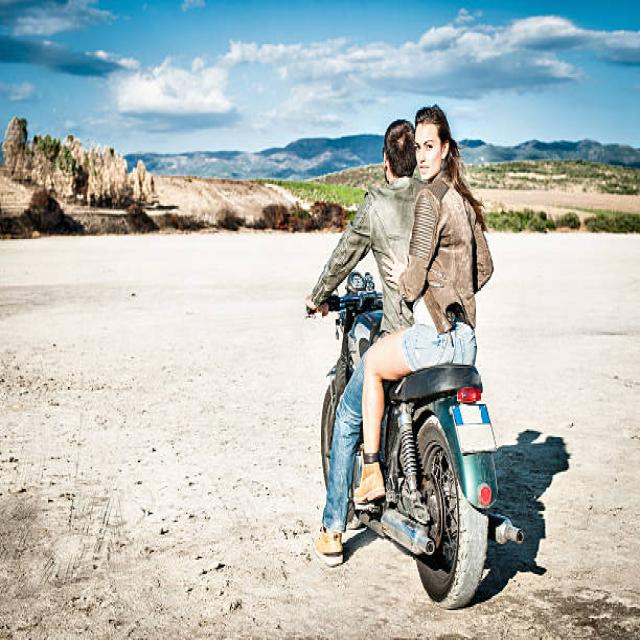No-Helmet: (413, 104, 454, 182), (381, 112, 413, 184)
